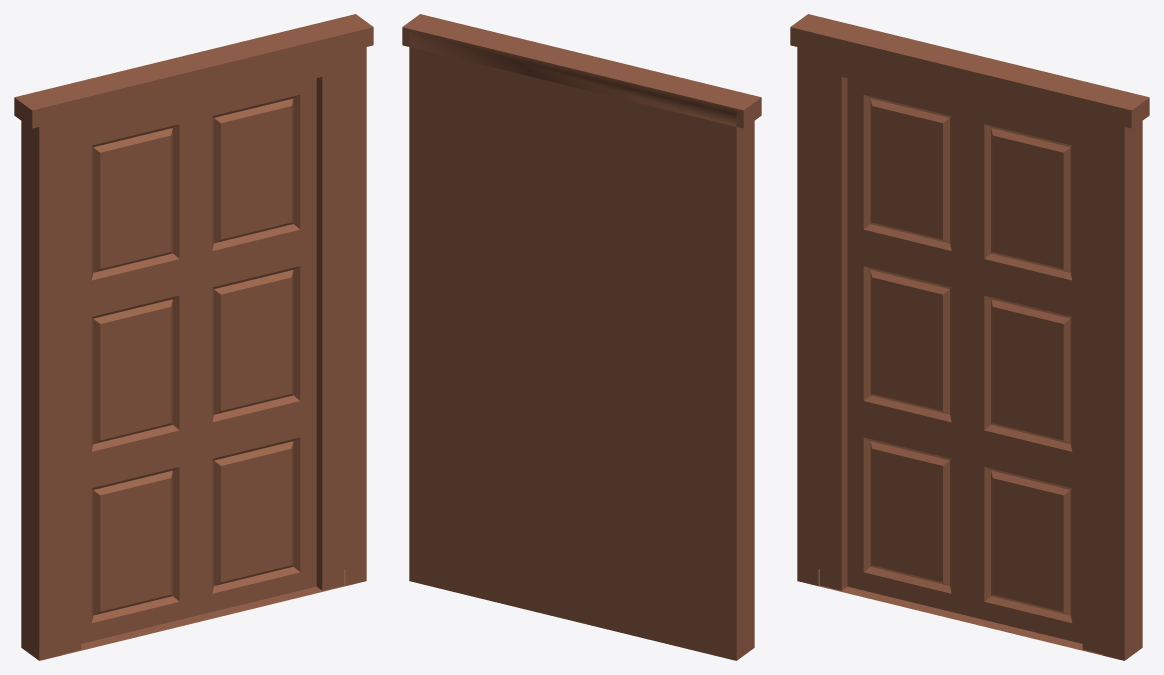
File: LightWoodDecorationMediumChalet1.fbx
3 views of the same model, side by side, from view 1: azimuth 30°, elevation 25°; view 2: azimuth 150°, elevation 25°; view 3: azimuth 330°, elevation 25° (orthographic).
Parts seen in each view (by area): view 1: LightWoodDecorationMediumChalet1; view 2: LightWoodDecorationMediumChalet1; view 3: LightWoodDecorationMediumChalet1.
Boxes of the visible parts, x1=… form: LightWoodDecorationMediumChalet1: x1=14, y1=14, x2=373, y2=660; LightWoodDecorationMediumChalet1: x1=402, y1=14, x2=761, y2=660; LightWoodDecorationMediumChalet1: x1=790, y1=14, x2=1149, y2=660.
Size of the model in its own units: 196 by 303 by 17.88.
